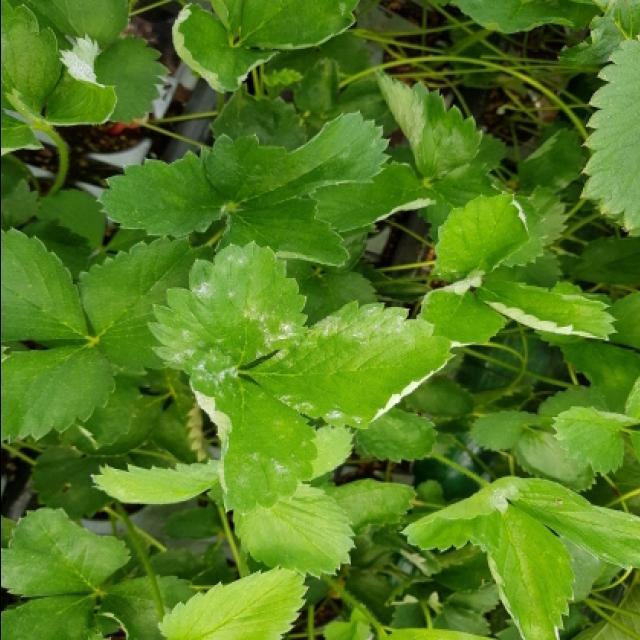Powdery Mildew Leaf: (245, 300, 457, 432), (144, 240, 308, 376), (186, 368, 318, 515), (398, 475, 527, 554), (171, 2, 280, 95), (427, 192, 534, 286), (474, 275, 619, 341), (40, 31, 117, 127), (417, 272, 508, 349)
